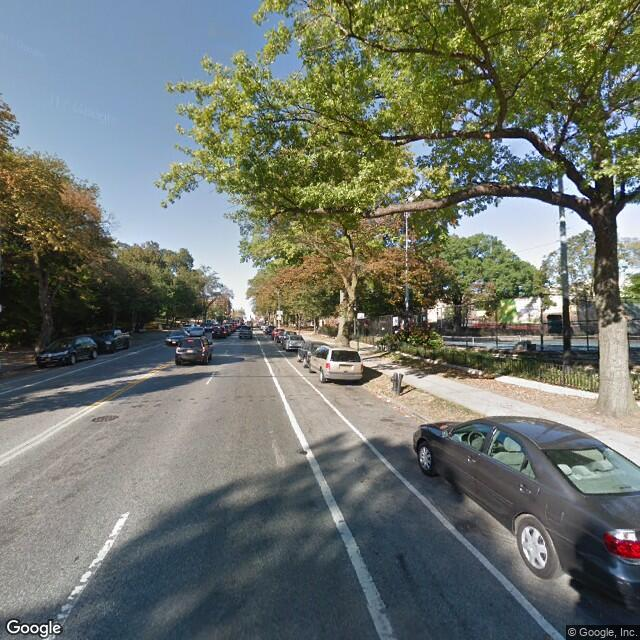litter: (382, 373, 410, 396)
